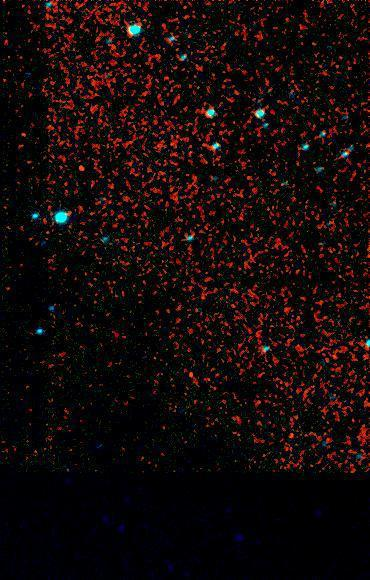star: (68, 149, 98, 179)
